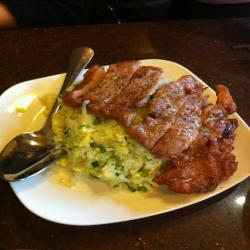rice: (37, 118, 157, 192)
